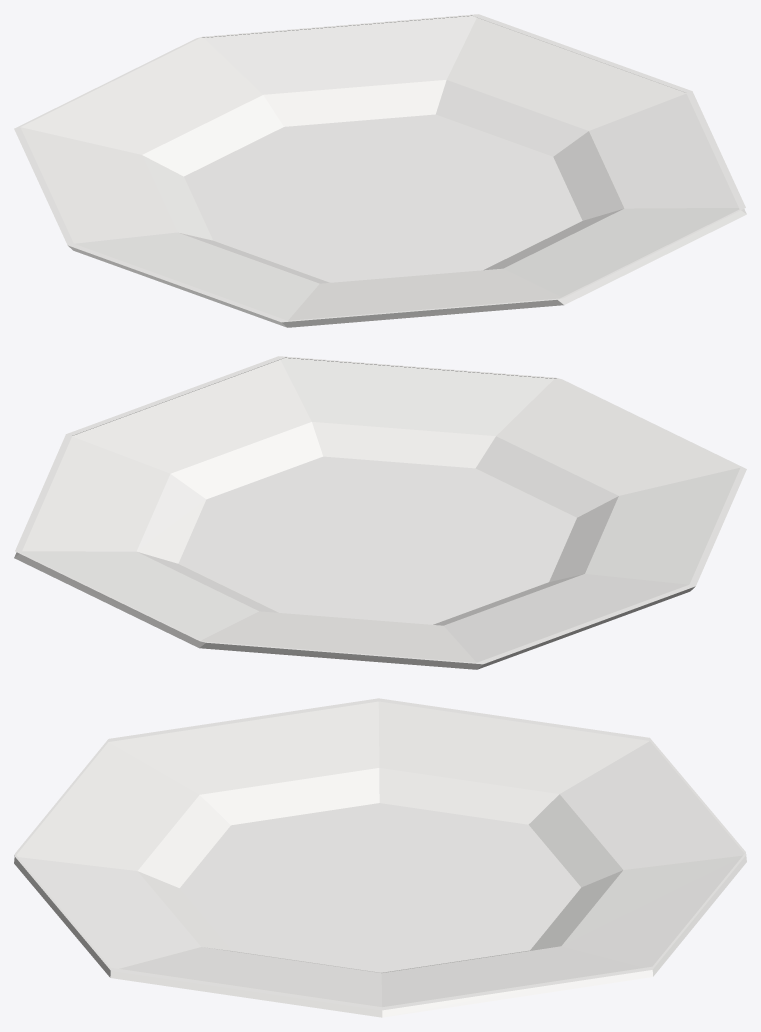
The model's file is Plate_3.fbx.
The picture shows the model from 3 angles, top to bottom: view 1: azimuth 30°, elevation 25°; view 2: azimuth 150°, elevation 25°; view 3: azimuth 270°, elevation 25°; orthographic projection. The views are drawn at different scales.
Visible parts, largest first — view 1: Plate_3; view 2: Plate_3; view 3: Plate_3.
Boxes of the visible parts, x1=… form: Plate_3: x1=14, y1=14, x2=746, y2=327; Plate_3: x1=14, y1=356, x2=746, y2=669; Plate_3: x1=14, y1=698, x2=746, y2=1017.
Bounding box in the file's own units: 28.41 × 28.16 × 1.64.
